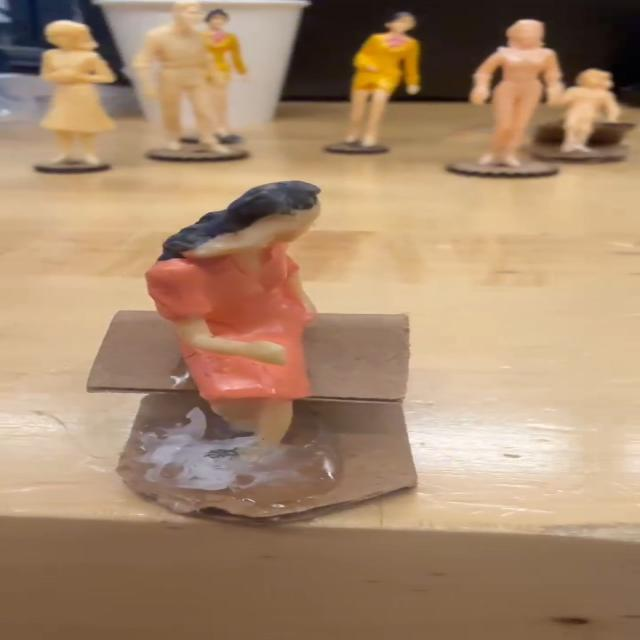Authorized: (140, 179, 340, 472)
